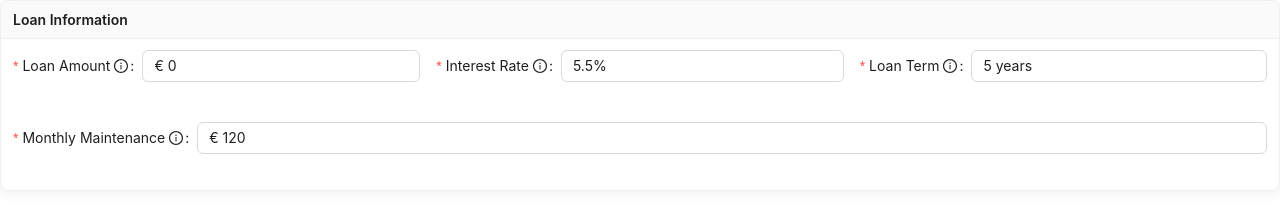
LoanSection › formats percentage inputs correctly
Replace the text in the number field labelled "Interest Rate" with "3.5" at (702, 66), box 562,51 -> 843,81
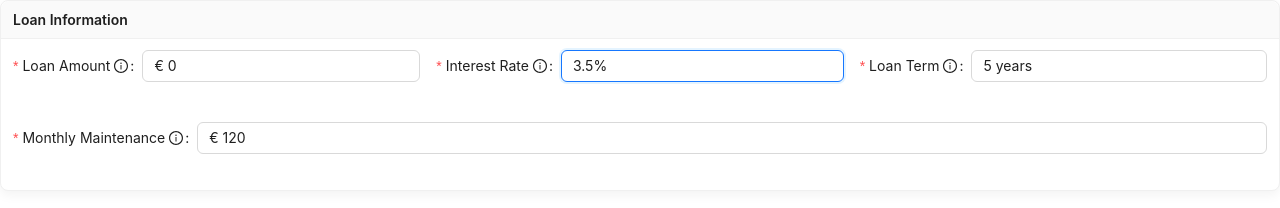
Now the number field showing "3.5%" is shown, box 562,51 -> 843,81
